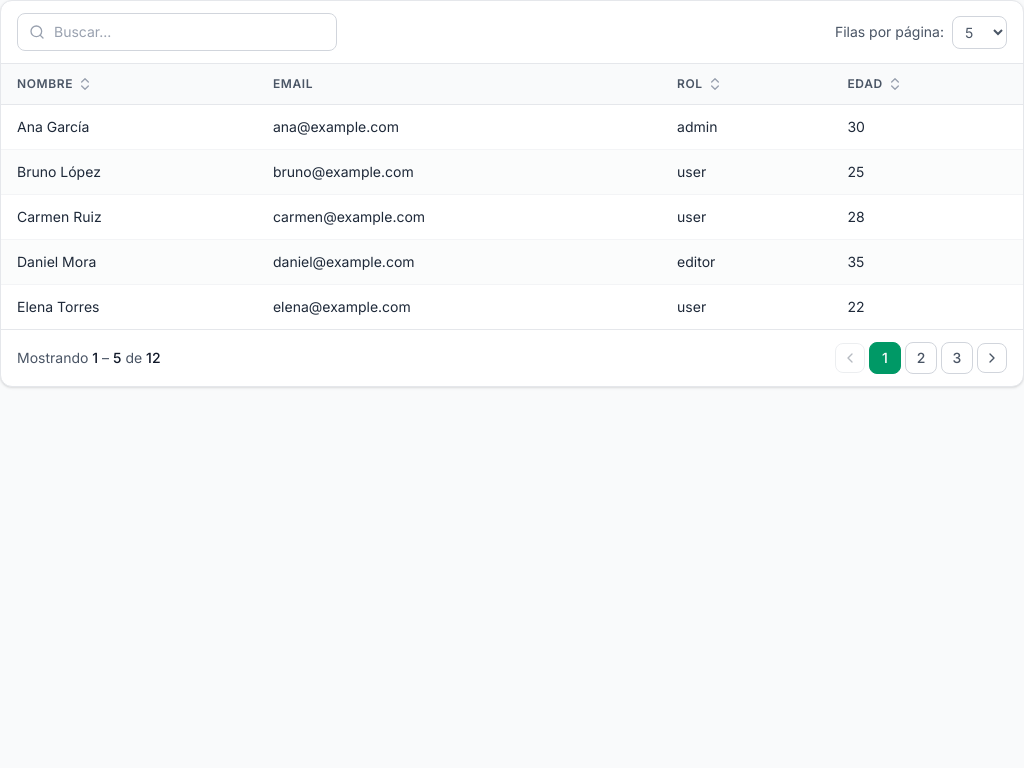
Test: DataTable — Paginación › muestra más filas al cambiar el selector de tamaño de página
The width and height of the screenshot is (1024, 768).
Expected: the text "Felipe Vargas" is not shown
# Cambiar a 10 filas por página.
Select "10" in the dropdown labelled "Filas por página:" at (980, 32), box [952,16,1007,48]
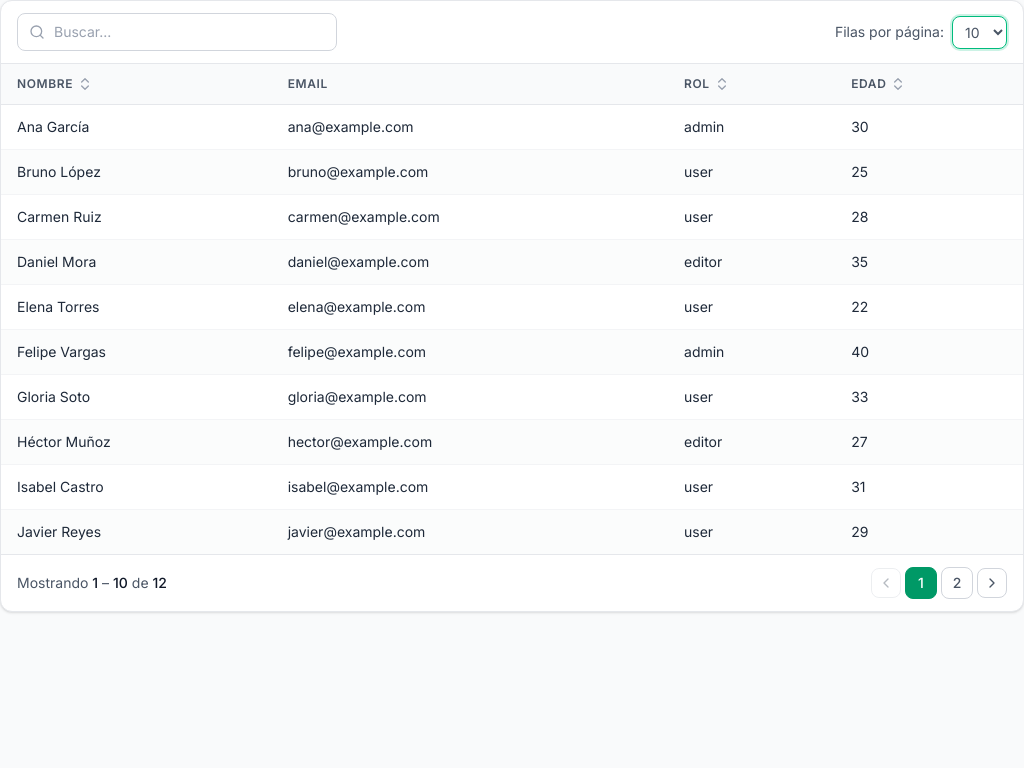
Now the text "Felipe Vargas" is shown, box [1,330,272,374]
Now the text "Gloria Soto" is shown, box [1,374,272,420]
